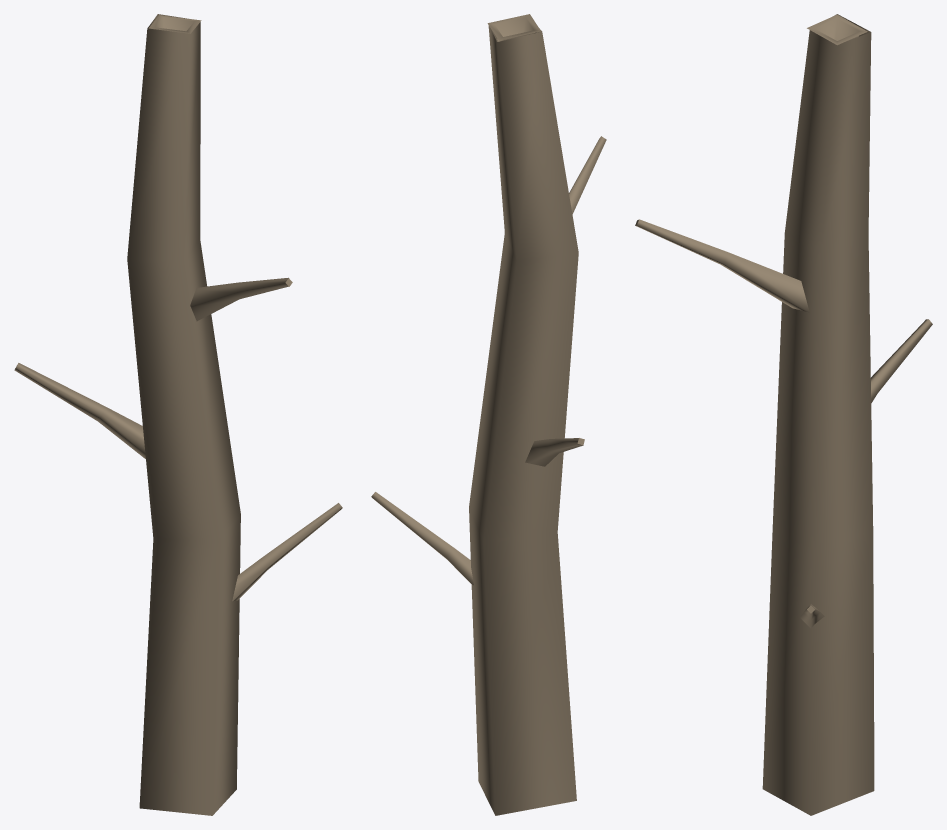
File: fallen_log_lod2.glb
3 renders of one model, left to right at view 1: azimuth 30°, elevation 25°; view 2: azimuth 150°, elevation 25°; view 3: azimuth 270°, elevation 25°, orthographic.
Parts seen in each view (by area): view 1: Bark; view 2: Bark; view 3: Bark.
Part boxes in pixels (x1=…): Bark: x1=14, y1=14, x2=342, y2=815; Bark: x1=371, y1=14, x2=606, y2=815; Bark: x1=635, y1=14, x2=932, y2=815.
Bounding box in the file's own units: 1.76 × 4.83 × 1.71.
